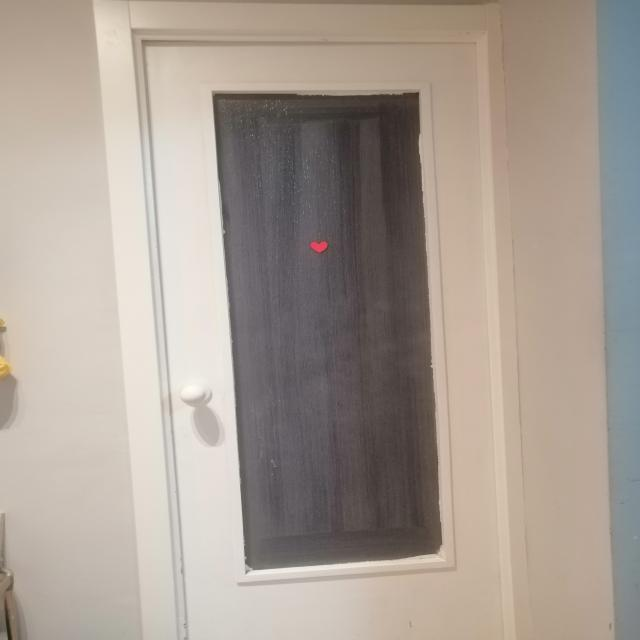door_handle: (170, 385, 225, 406)
